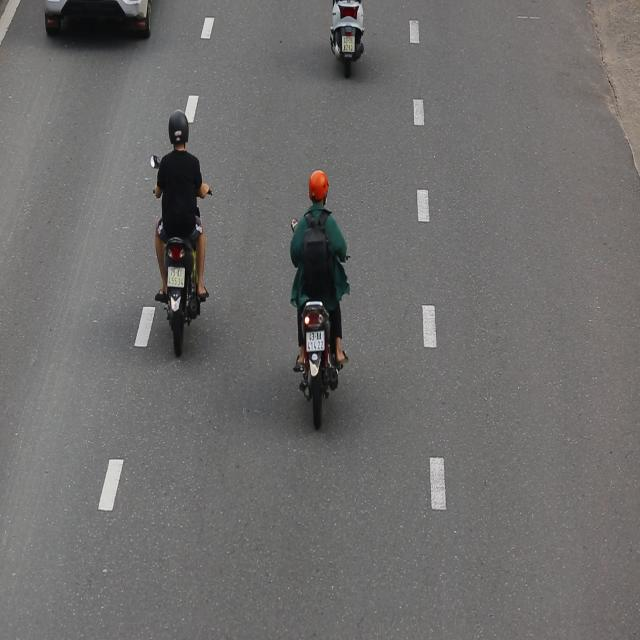motorbike: (131, 104, 215, 366), (283, 158, 357, 452)
